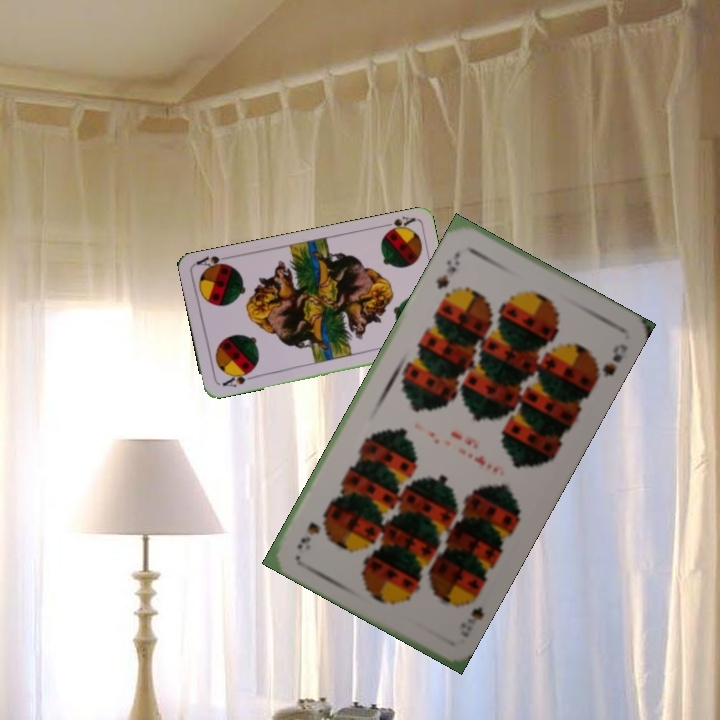S9: (432, 248, 463, 292), (459, 587, 486, 628)
SA: (377, 213, 417, 237), (218, 367, 257, 390)
